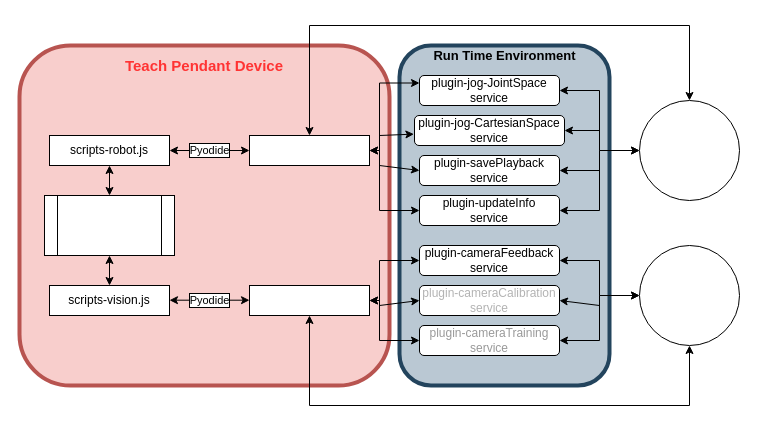
The diagram is 757 pixels wide and 432 high, and some of its shapes have lost their labels. Here are the shapes that lost their labels. From the top down, the centre of each, then its label:
At pixel 309 150: "RR-client-robot.py".
At pixel 689 150: "Robot Service (Sawyer, ABB, etc)".
At pixel 109 225: "Teach Pendant UI (Html)".
At pixel 309 300: "RR-client-vision.py".
At pixel 689 295: "Webcam Service".
